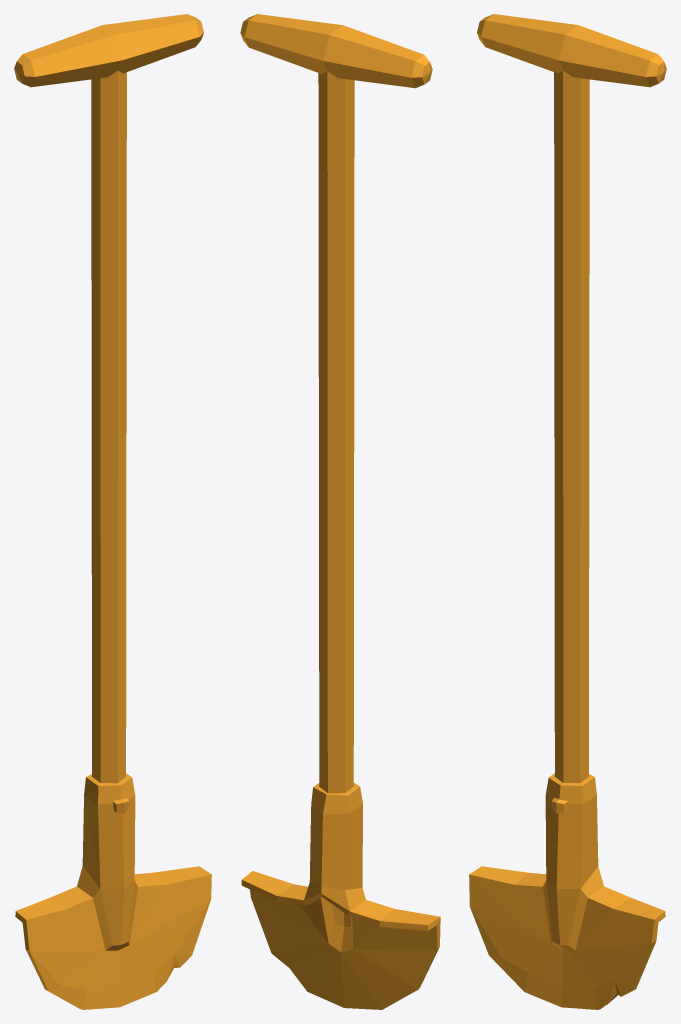
File: SM_Edger_Lawn_Farm.fbx
3 views of the same model, side by side, from view 1: azimuth 30°, elevation 25°; view 2: azimuth 150°, elevation 25°; view 3: azimuth 330°, elevation 25° (orthographic).
Parts seen in each view (by area): view 1: edger-lawn-farm; view 2: edger-lawn-farm; view 3: edger-lawn-farm.
Boxes of the visible parts, x1,y1,x2,y2 form: edger-lawn-farm: (14,14,211,1009); edger-lawn-farm: (240,14,440,1009); edger-lawn-farm: (469,14,666,1009).
Size of the model in its own units: 0.2 by 1 by 0.0574.
